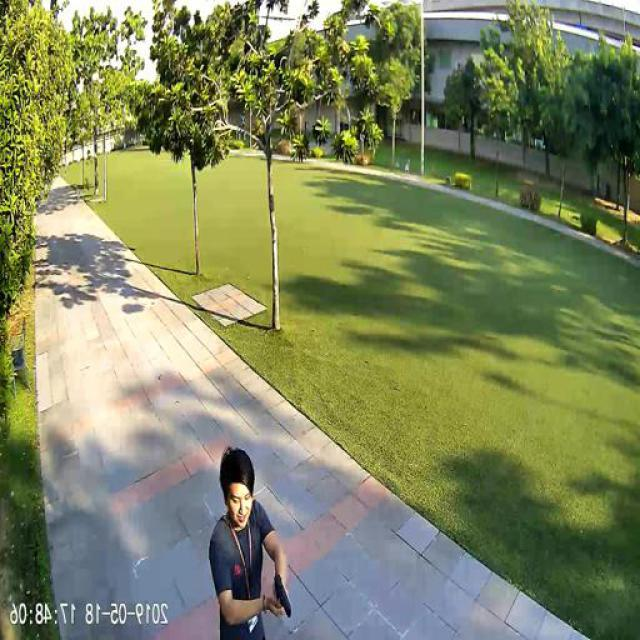Gun: (275, 571, 294, 619)
